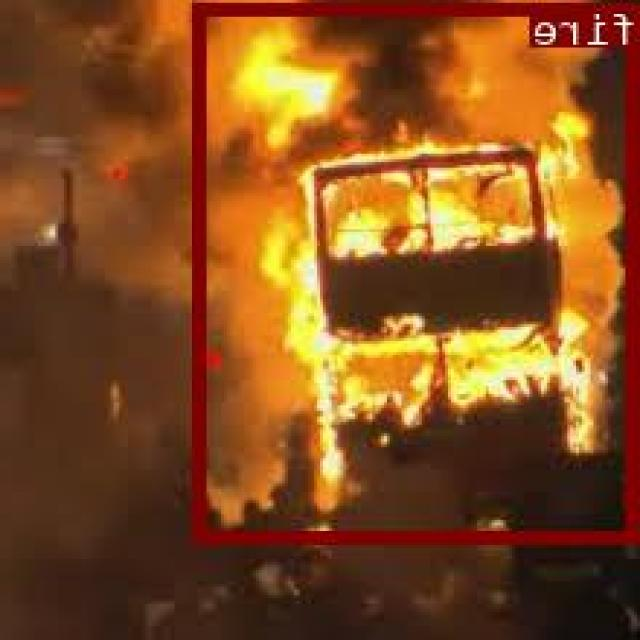fire: (195, 1, 640, 541)
